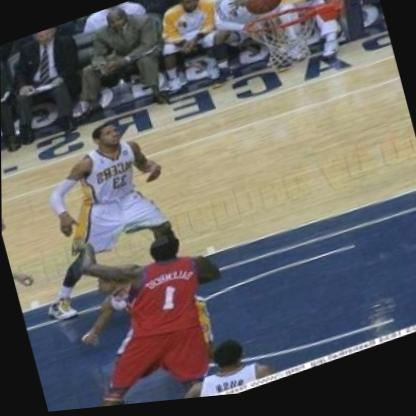basketball: (240, 0, 290, 28)
